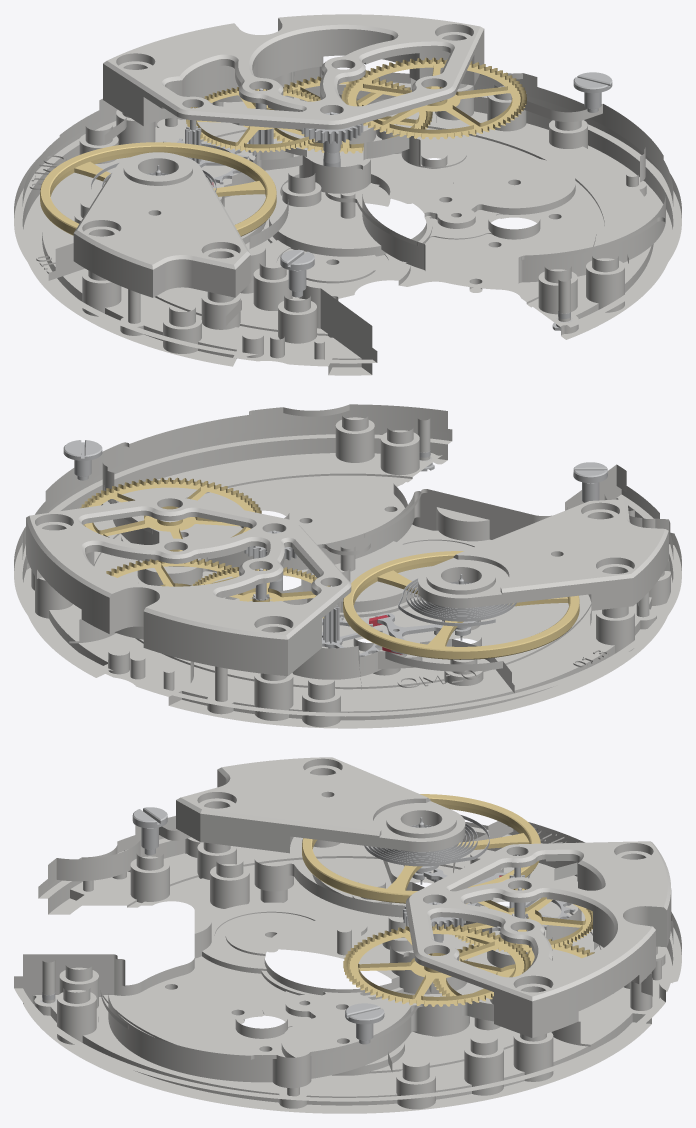
File: movement.glb
The picture shows the model from 3 angles, top to bottom: view 1: azimuth 30°, elevation 25°; view 2: azimuth 150°, elevation 25°; view 3: azimuth 270°, elevation 25°; orthographic projection.
Parts seen in each view (by area): view 1: mainplate, bridge, cock, balance, wheel_a, wheel_c, wheel_b, pinion_a, screw_a, screw_b; view 2: mainplate, bridge, cock, balance, wheel_a, hairspring, wheel_c, wheel_b, screw_b, screw_a, lever, epinion (+2 smaller); view 3: mainplate, bridge, cock, wheel_a, balance, wheel_c, hairspring, wheel_b, screw_a, screw_b.
Part boxes in pixels (left/top/right/bottom): mainplate: left=14, top=56, right=681, bottom=375; bridge: left=103, top=14, right=484, bottom=129; cock: left=73, top=152, right=250, bottom=297; balance: left=40, top=142, right=276, bottom=236; wheel_a: left=341, top=57, right=526, bottom=139; wheel_c: left=186, top=87, right=320, bottom=152; wheel_b: left=266, top=76, right=432, bottom=153; pinion_a: left=300, top=112, right=363, bottom=167; screw_a: left=280, top=250, right=314, bottom=297; screw_b: left=573, top=72, right=612, bottom=112; mainplate: left=14, top=404, right=681, bottom=728; bridge: left=26, top=496, right=351, bottom=675; cock: left=418, top=499, right=668, bottom=610; balance: left=343, top=551, right=579, bottom=659; wheel_a: left=80, top=477, right=261, bottom=551; hairspring: left=398, top=578, right=516, bottom=626; wheel_c: left=192, top=567, right=330, bottom=618; wheel_b: left=106, top=559, right=239, bottom=586; screw_b: left=63, top=440, right=102, bottom=480; screw_a: left=573, top=462, right=607, bottom=502; lever: left=375, top=613, right=443, bottom=654; epinion: left=323, top=585, right=339, bottom=648; mainplate: left=14, top=816, right=681, bottom=1113; bridge: left=406, top=841, right=671, bottom=1037; cock: left=176, top=757, right=465, bottom=853; wheel_a: left=343, top=924, right=530, bottom=1006; balance: left=302, top=794, right=540, bottom=903; wheel_c: left=452, top=888, right=592, bottom=952; hairspring: left=364, top=814, right=489, bottom=866; wheel_b: left=433, top=939, right=594, bottom=996; screw_a: left=132, top=807, right=167, bottom=855; screw_b: left=345, top=1003, right=384, bottom=1044.
Size of the model in its own units: 30.78 by 5.24 by 30.46.
